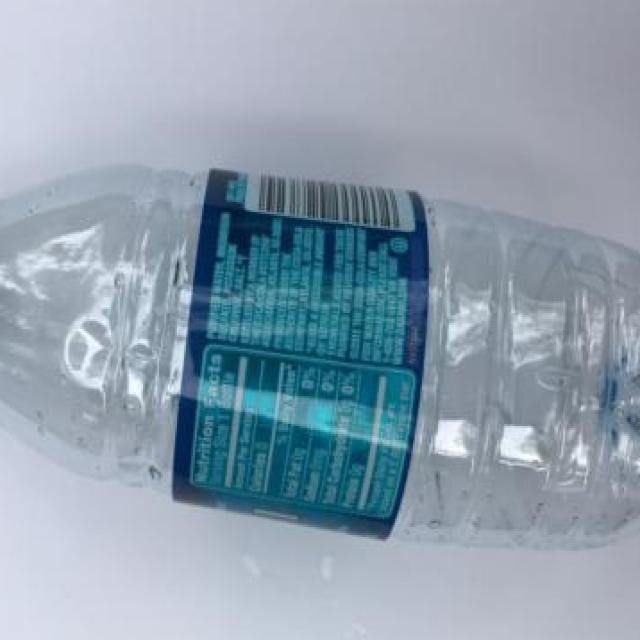organic: (0, 162, 640, 594)
